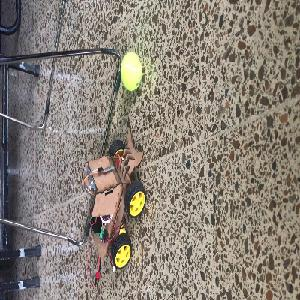Ball: (121, 52, 142, 91)
Robot: (84, 128, 147, 268)
